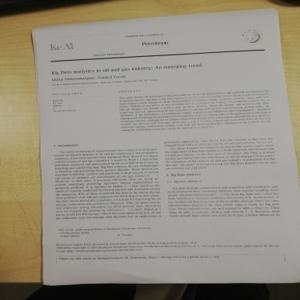image: (240, 25, 265, 47)
text: (50, 148, 160, 220), (116, 88, 273, 133), (165, 136, 280, 172), (167, 184, 282, 220), (55, 240, 279, 254), (49, 60, 206, 76), (56, 222, 154, 238)
